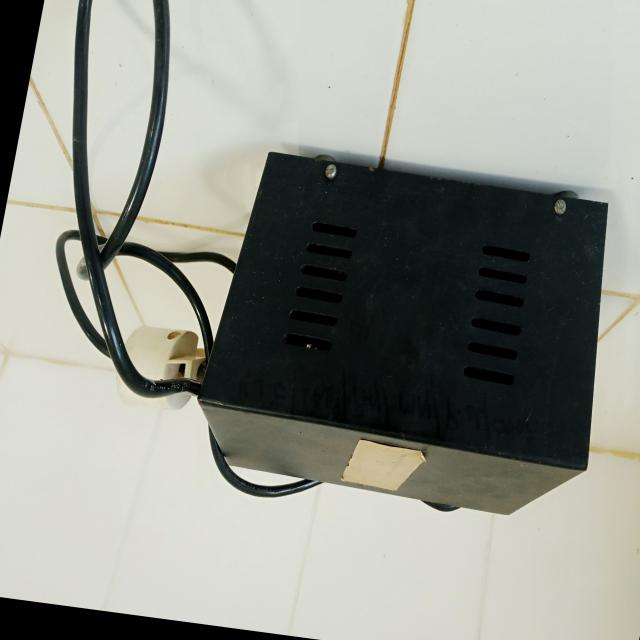Sodium Lamp Power Supply: (175, 126, 640, 537)
